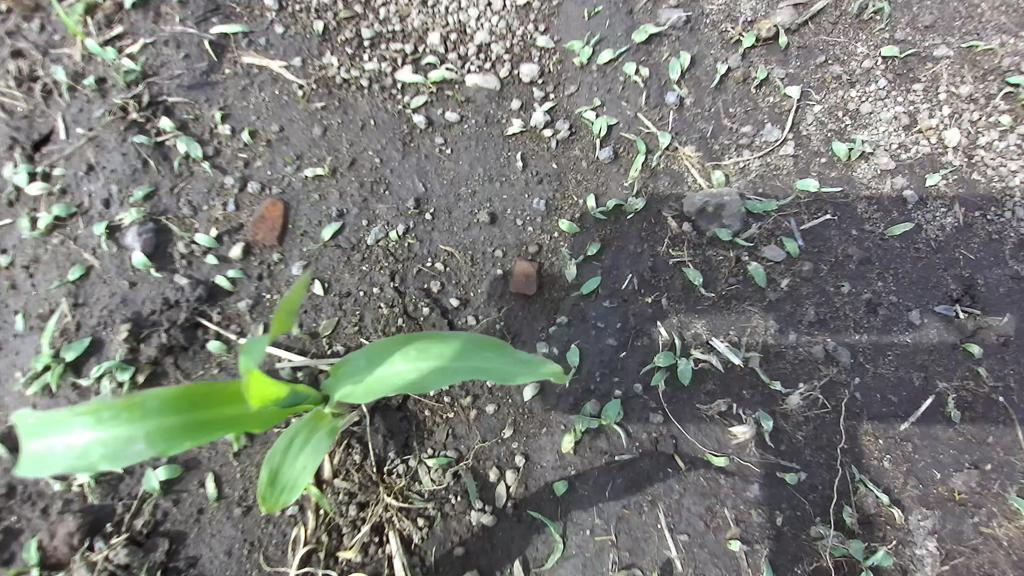BroWeed: (36, 324, 95, 394), (853, 470, 911, 533), (527, 511, 564, 572), (157, 218, 223, 252), (65, 357, 137, 386), (16, 341, 58, 389), (45, 257, 90, 298), (743, 186, 800, 217), (35, 299, 64, 359), (598, 397, 630, 451), (125, 245, 166, 287), (23, 359, 64, 401), (17, 209, 61, 247), (164, 130, 196, 179), (22, 175, 69, 207), (958, 33, 1005, 65), (101, 42, 145, 76), (681, 260, 715, 304), (670, 329, 695, 388), (48, 61, 80, 106), (634, 346, 679, 377), (628, 13, 669, 47), (792, 174, 845, 200), (751, 366, 794, 398), (856, 543, 897, 576), (185, 139, 216, 182), (920, 158, 959, 191), (303, 481, 338, 517), (572, 233, 606, 270), (92, 366, 124, 405), (755, 404, 782, 450), (711, 224, 756, 251), (113, 201, 150, 231), (568, 273, 606, 302), (576, 30, 609, 63), (79, 35, 114, 66), (123, 176, 158, 207), (563, 21, 594, 56), (126, 358, 156, 394), (970, 363, 1006, 393), (619, 124, 651, 157), (0, 159, 34, 190), (592, 39, 631, 66), (560, 342, 582, 389), (121, 52, 152, 85), (744, 255, 772, 291), (406, 82, 439, 112), (460, 468, 483, 511), (650, 127, 673, 170), (285, 314, 313, 347), (152, 458, 186, 485), (420, 52, 459, 75), (315, 216, 347, 244), (581, 191, 608, 224), (572, 400, 593, 442), (155, 111, 183, 142), (779, 230, 806, 262), (623, 151, 647, 187), (621, 58, 646, 92), (393, 66, 433, 87), (210, 270, 241, 297), (733, 27, 760, 58), (142, 466, 161, 510), (105, 62, 133, 91), (173, 238, 208, 261), (667, 55, 685, 99), (593, 193, 626, 217), (119, 35, 148, 62), (959, 336, 989, 362), (751, 15, 781, 41), (882, 218, 917, 240), (21, 536, 40, 576), (419, 453, 457, 473), (748, 62, 771, 95), (591, 116, 609, 158), (314, 313, 344, 338), (559, 255, 584, 285), (13, 200, 35, 234), (880, 43, 919, 62), (567, 413, 610, 430), (203, 335, 232, 360), (829, 136, 854, 165), (848, 462, 867, 500), (36, 202, 81, 218), (193, 246, 225, 268), (202, 470, 221, 507), (725, 346, 764, 364), (707, 60, 729, 91), (571, 95, 603, 116), (13, 144, 36, 173), (841, 500, 860, 535), (302, 156, 332, 178), (553, 215, 583, 237), (773, 79, 804, 100), (815, 525, 845, 546), (626, 191, 649, 218), (649, 364, 671, 392), (427, 67, 463, 84), (92, 220, 111, 251), (499, 414, 520, 442), (550, 475, 574, 499), (807, 517, 830, 542), (844, 539, 867, 563), (766, 64, 789, 88), (873, 0, 890, 31), (400, 49, 421, 74), (130, 131, 159, 149), (72, 469, 98, 489), (500, 120, 527, 139), (946, 393, 962, 425), (702, 452, 731, 469), (1, 181, 21, 205), (43, 477, 73, 493), (708, 166, 728, 190), (308, 277, 330, 298), (991, 84, 1015, 103), (581, 2, 605, 21), (533, 32, 558, 50), (669, 450, 689, 472), (227, 239, 246, 262), (493, 479, 507, 510), (202, 37, 218, 64), (599, 109, 620, 129), (774, 470, 800, 486), (844, 141, 876, 154), (209, 24, 250, 34), (560, 427, 575, 454), (916, 108, 932, 133), (80, 72, 99, 93), (212, 107, 232, 126), (829, 543, 850, 561), (636, 61, 654, 82), (522, 382, 540, 402), (334, 6, 356, 22), (580, 105, 599, 123), (1004, 73, 1024, 90), (240, 125, 256, 146), (726, 539, 751, 552), (679, 49, 691, 75), (211, 122, 234, 135), (850, 138, 863, 161), (615, 566, 644, 576), (360, 24, 377, 41), (777, 25, 789, 49), (386, 227, 401, 246), (13, 310, 27, 330), (224, 268, 249, 279), (572, 52, 588, 69), (778, 140, 795, 156), (0, 567, 30, 576), (533, 101, 557, 112), (512, 555, 524, 576), (119, 377, 132, 396), (311, 18, 324, 37), (0, 251, 15, 267), (615, 405, 627, 424), (589, 398, 601, 417), (762, 557, 774, 576), (514, 149, 524, 171), (143, 33, 159, 46), (997, 112, 1011, 126), (34, 164, 53, 174), (51, 166, 68, 176), (122, 0, 136, 11), (378, 5, 388, 20), (321, 336, 330, 352), (510, 118, 526, 127), (461, 568, 478, 576), (798, 471, 809, 482), (861, 568, 873, 576), (1018, 91, 1024, 105), (94, 0, 104, 5)
Maize: (0, 186, 572, 576)
